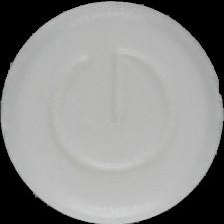0378-9290: (0, 0, 224, 224)
